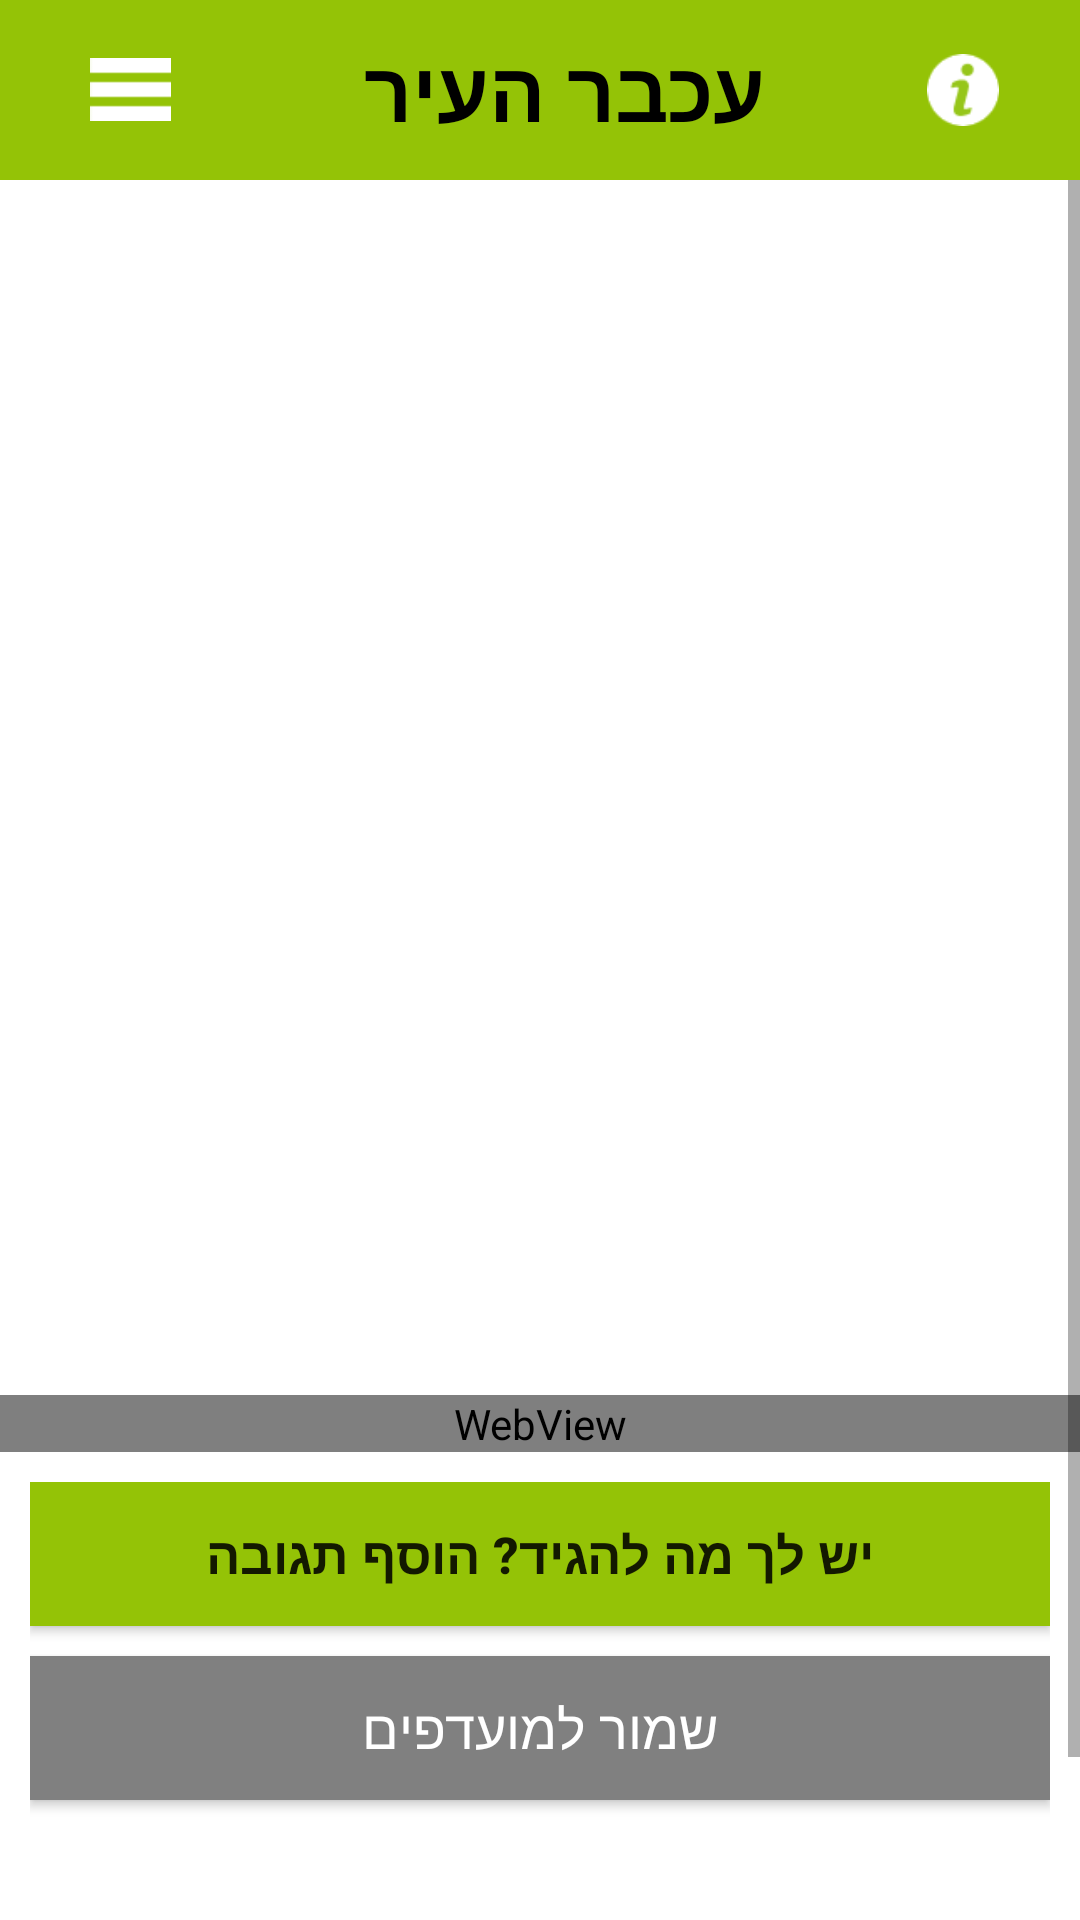

Named icons in this screenshot (1080w x 1920h) and their centers, [x,y]:
burger: [130,89]
info: [963,90]
